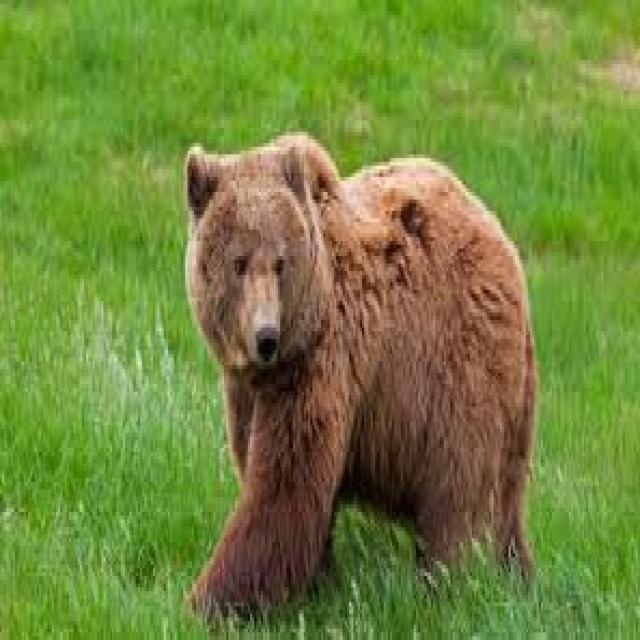bear: (143, 107, 640, 636)
